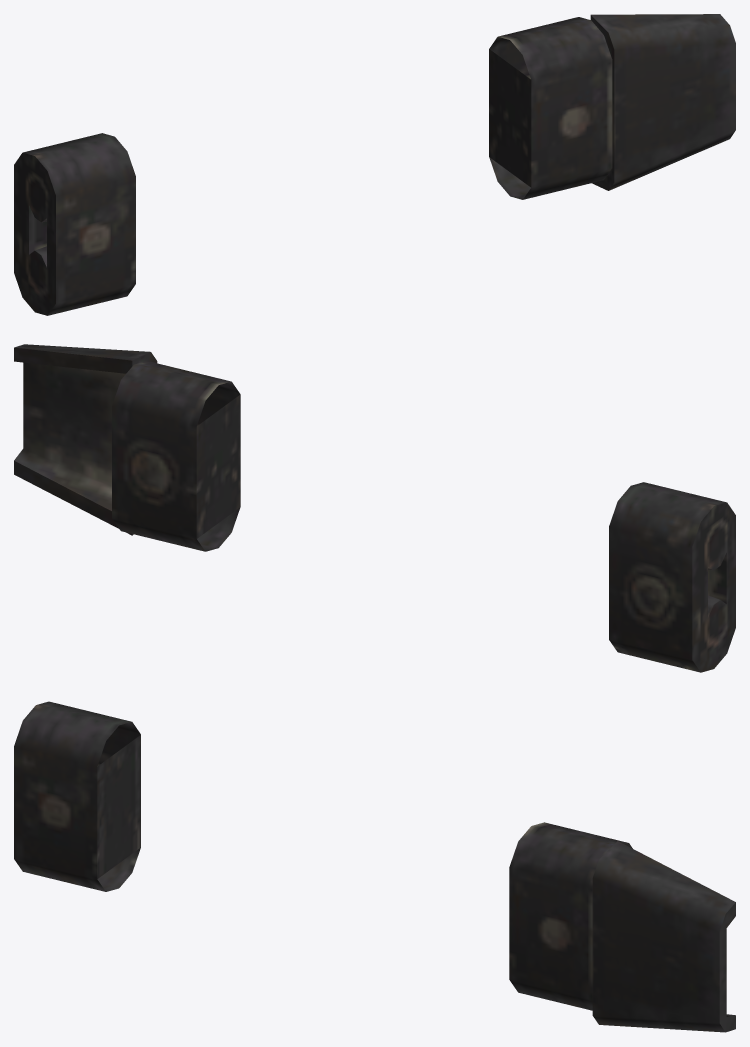
The picture shows the model from 3 angles, top to bottom: view 1: azimuth 30°, elevation 25°; view 2: azimuth 150°, elevation 25°; view 3: azimuth 330°, elevation 25°; orthographic projection. The views are drawn at different scales.
Parts seen in each view (by area): view 1: set_0_group_0; view 2: set_0_group_0; view 3: set_0_group_0.
Boxes of the visible parts, bbox=[...] form: set_0_group_0: bbox=[14, 14, 735, 315]; set_0_group_0: bbox=[14, 344, 735, 672]; set_0_group_0: bbox=[14, 701, 735, 1032].
Bounding box in the file's own units: 0.5 × 0.1183 × 0.0557.
Materials: 1 (1 with a texture image).
